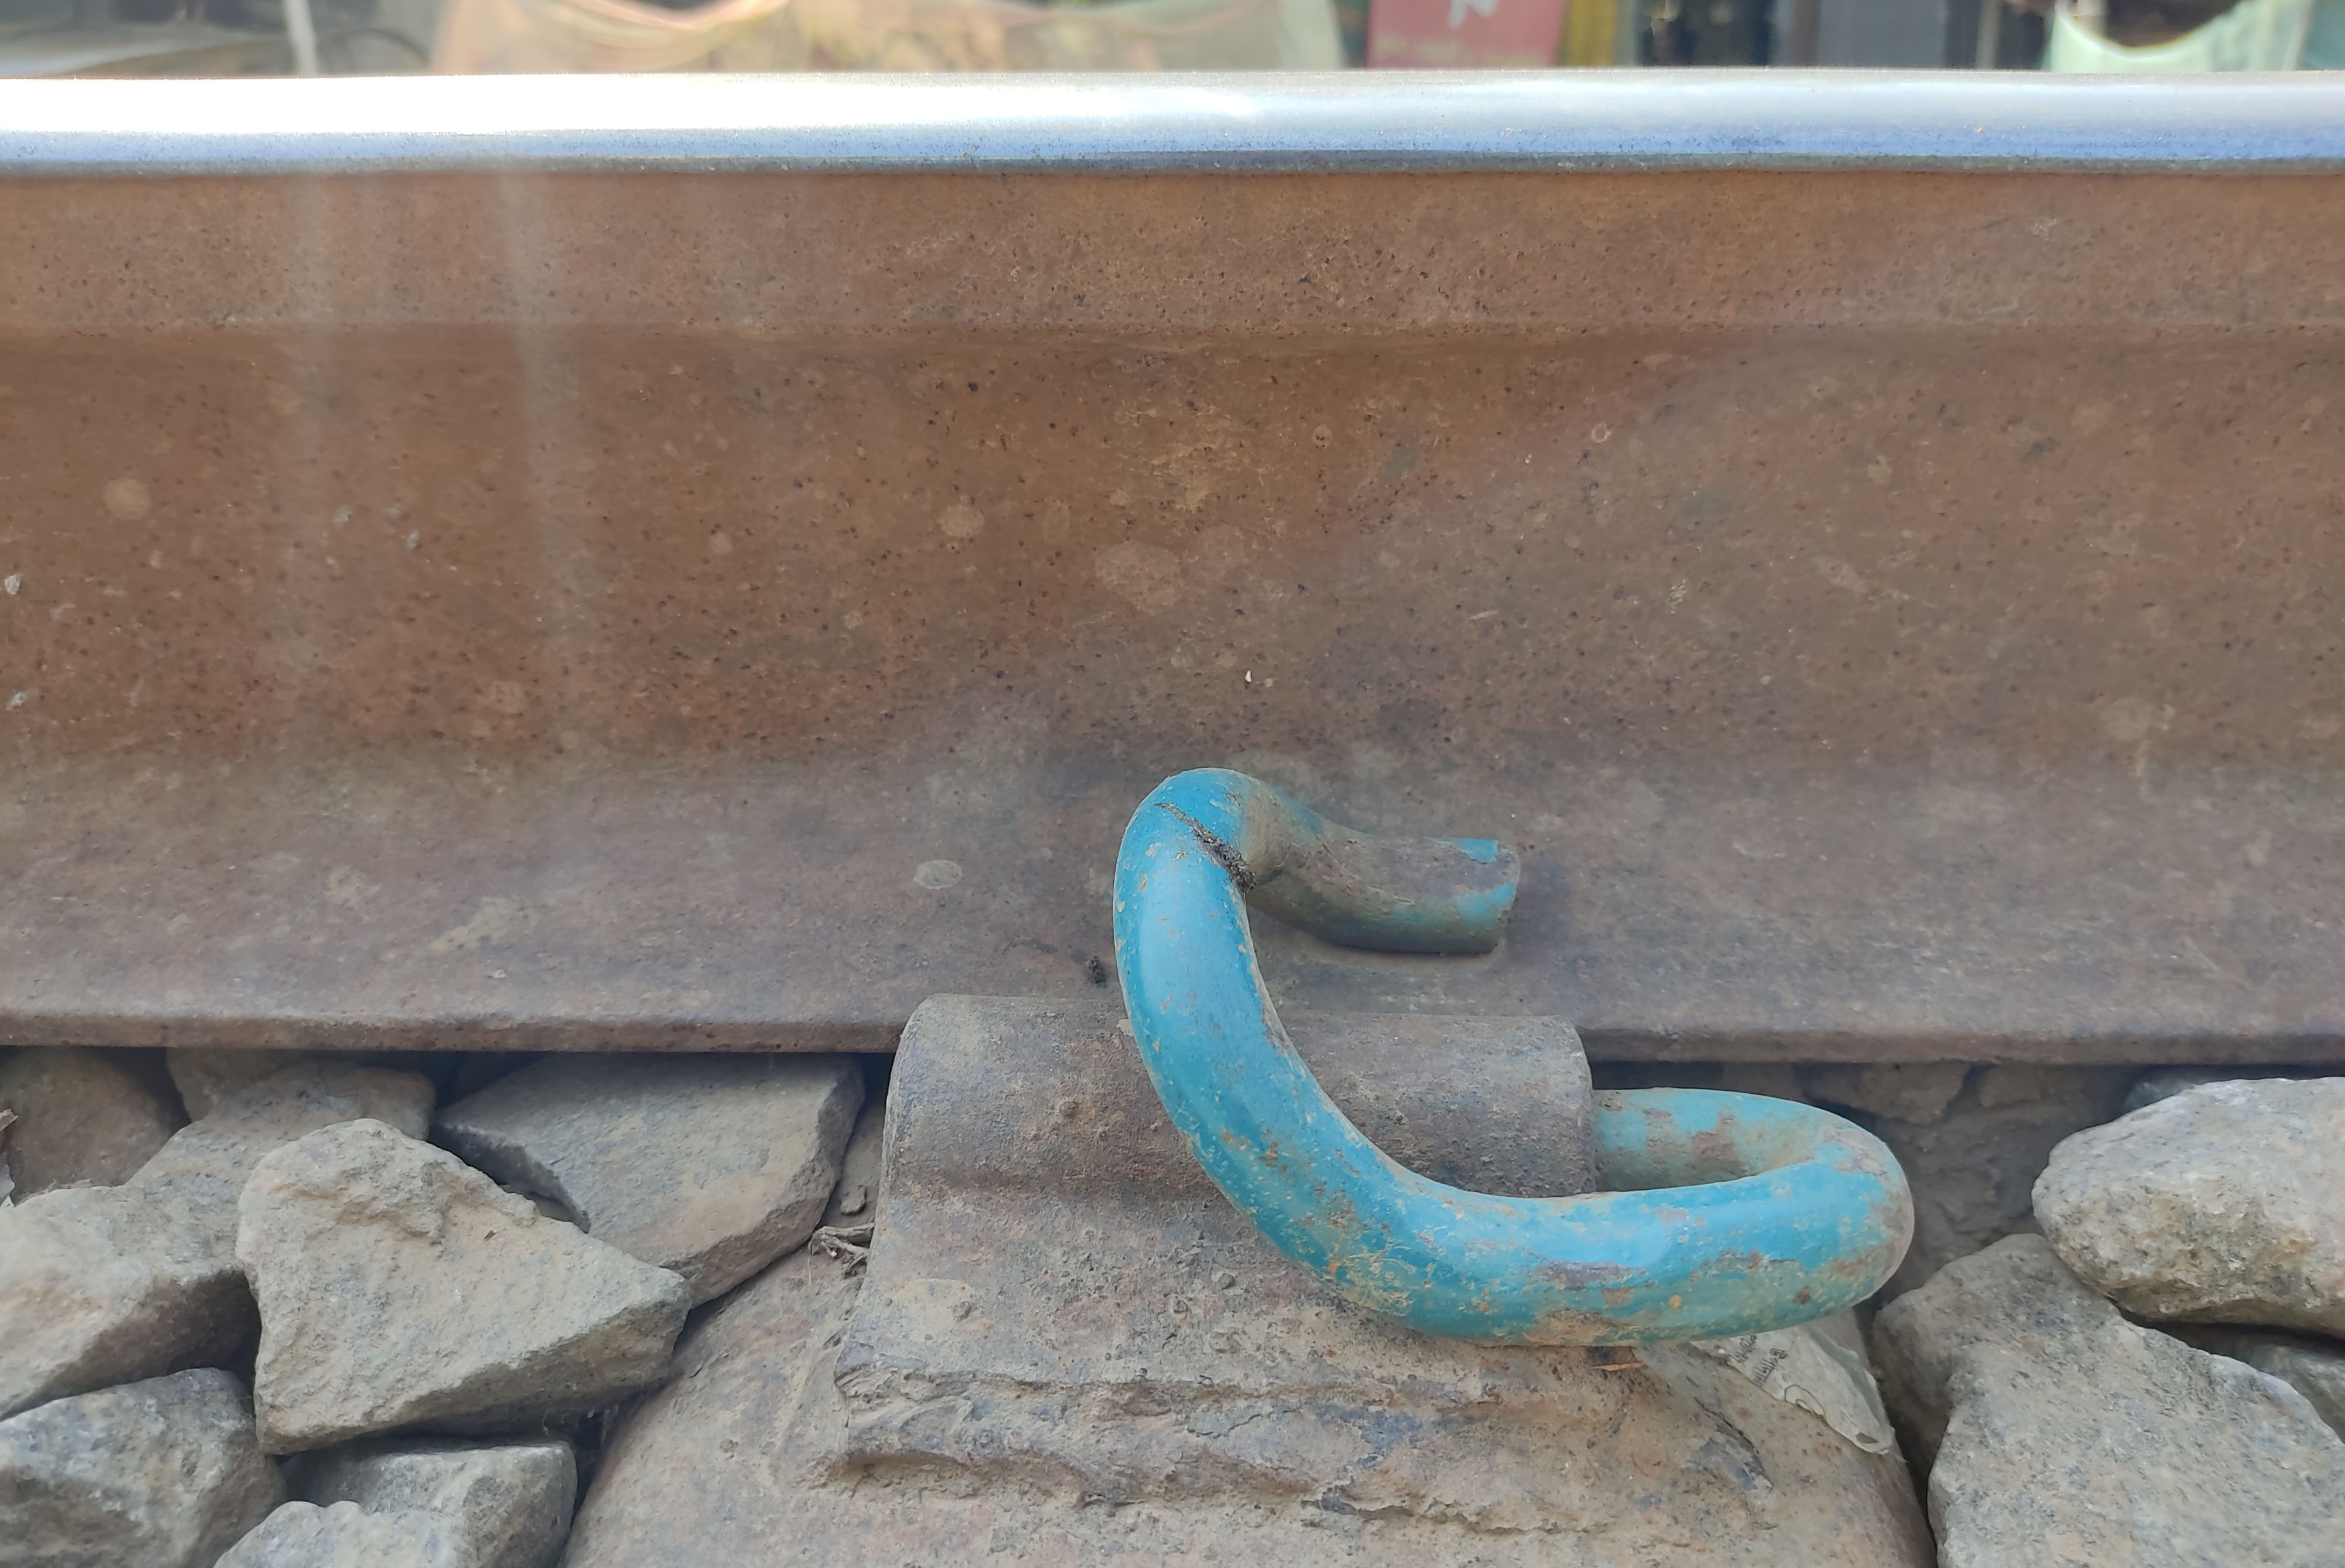error1: (875, 674, 1916, 1370)
